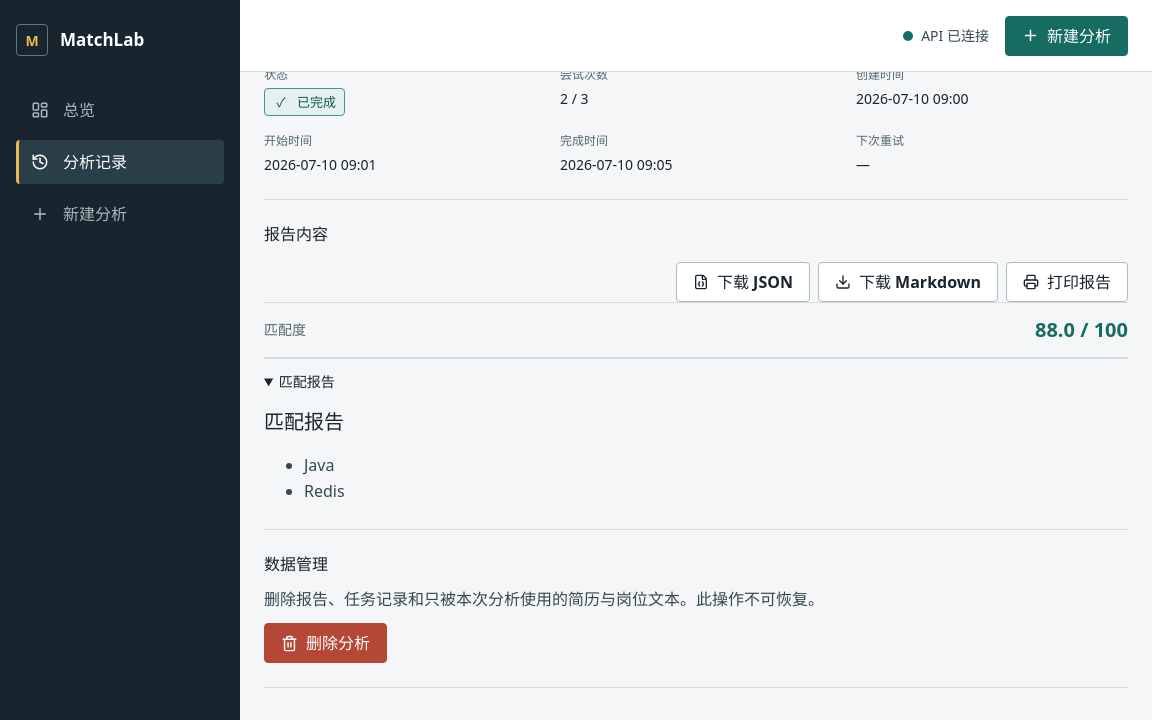
Test case: keeps the confirmation open and exposes a safe request reference when deletion fails
(page scrolled)
Click the button "删除分析" at (326, 643), box left=264, top=623, right=387, bottom=663
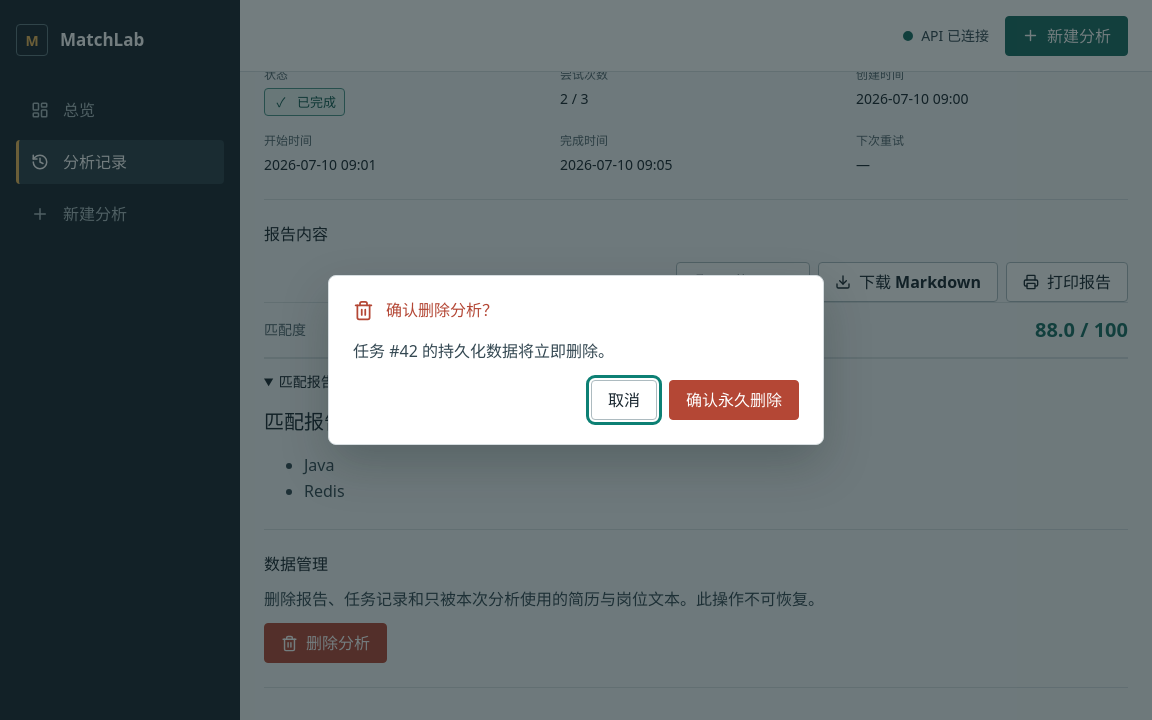
Click the button "确认永久删除" at (734, 400), box left=669, top=380, right=799, bottom=420
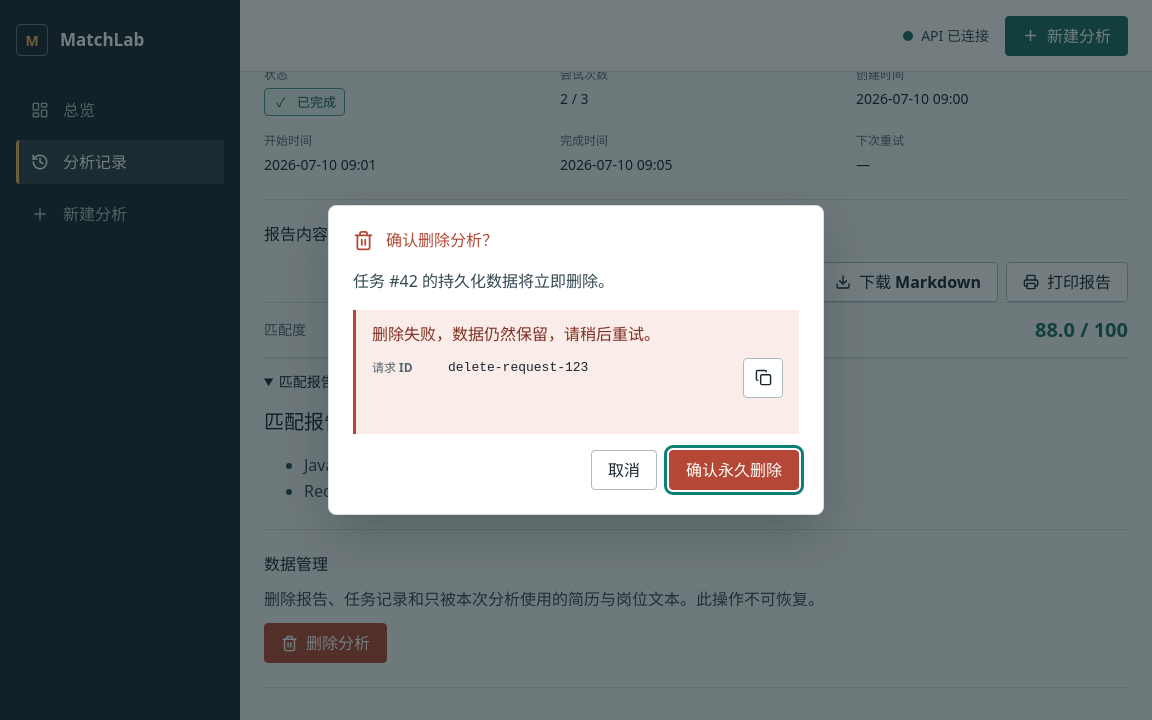
Now the message shows "删除失败，数据仍然保留，请稍后重试。", box left=372, top=323, right=660, bottom=345
Now the text "delete-request-123" is shown, box left=448, top=360, right=588, bottom=375
